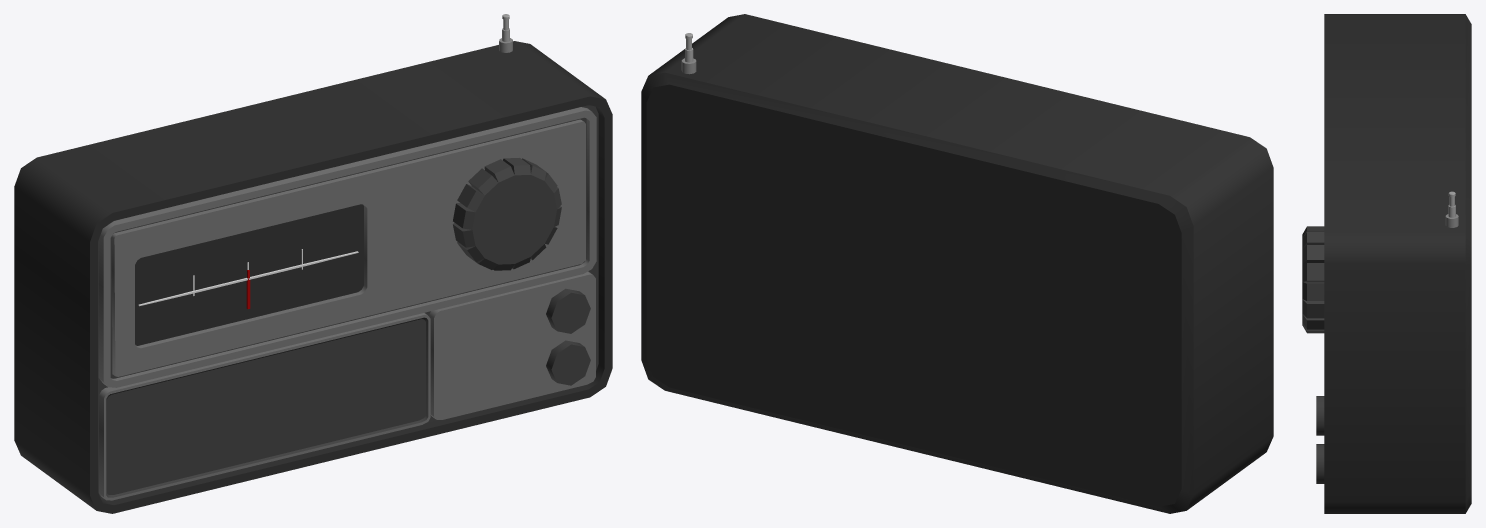
Rendered from old_radio.fbx.
3 renders of one model, left to right at view 1: azimuth 30°, elevation 25°; view 2: azimuth 150°, elevation 25°; view 3: azimuth 270°, elevation 25°, orthographic. The views are drawn at different scales.
Visible parts, largest first — view 1: OldRadio; view 2: OldRadio; view 3: OldRadio.
Part boxes in pixels (left/top/right/bottom): OldRadio: left=14, top=38, right=612, bottom=513; OldRadio: left=641, top=14, right=1273, bottom=513; OldRadio: left=1302, top=14, right=1471, bottom=513.
Size of the model in its own units: 0.2733 by 0.1679 by 0.0821.
